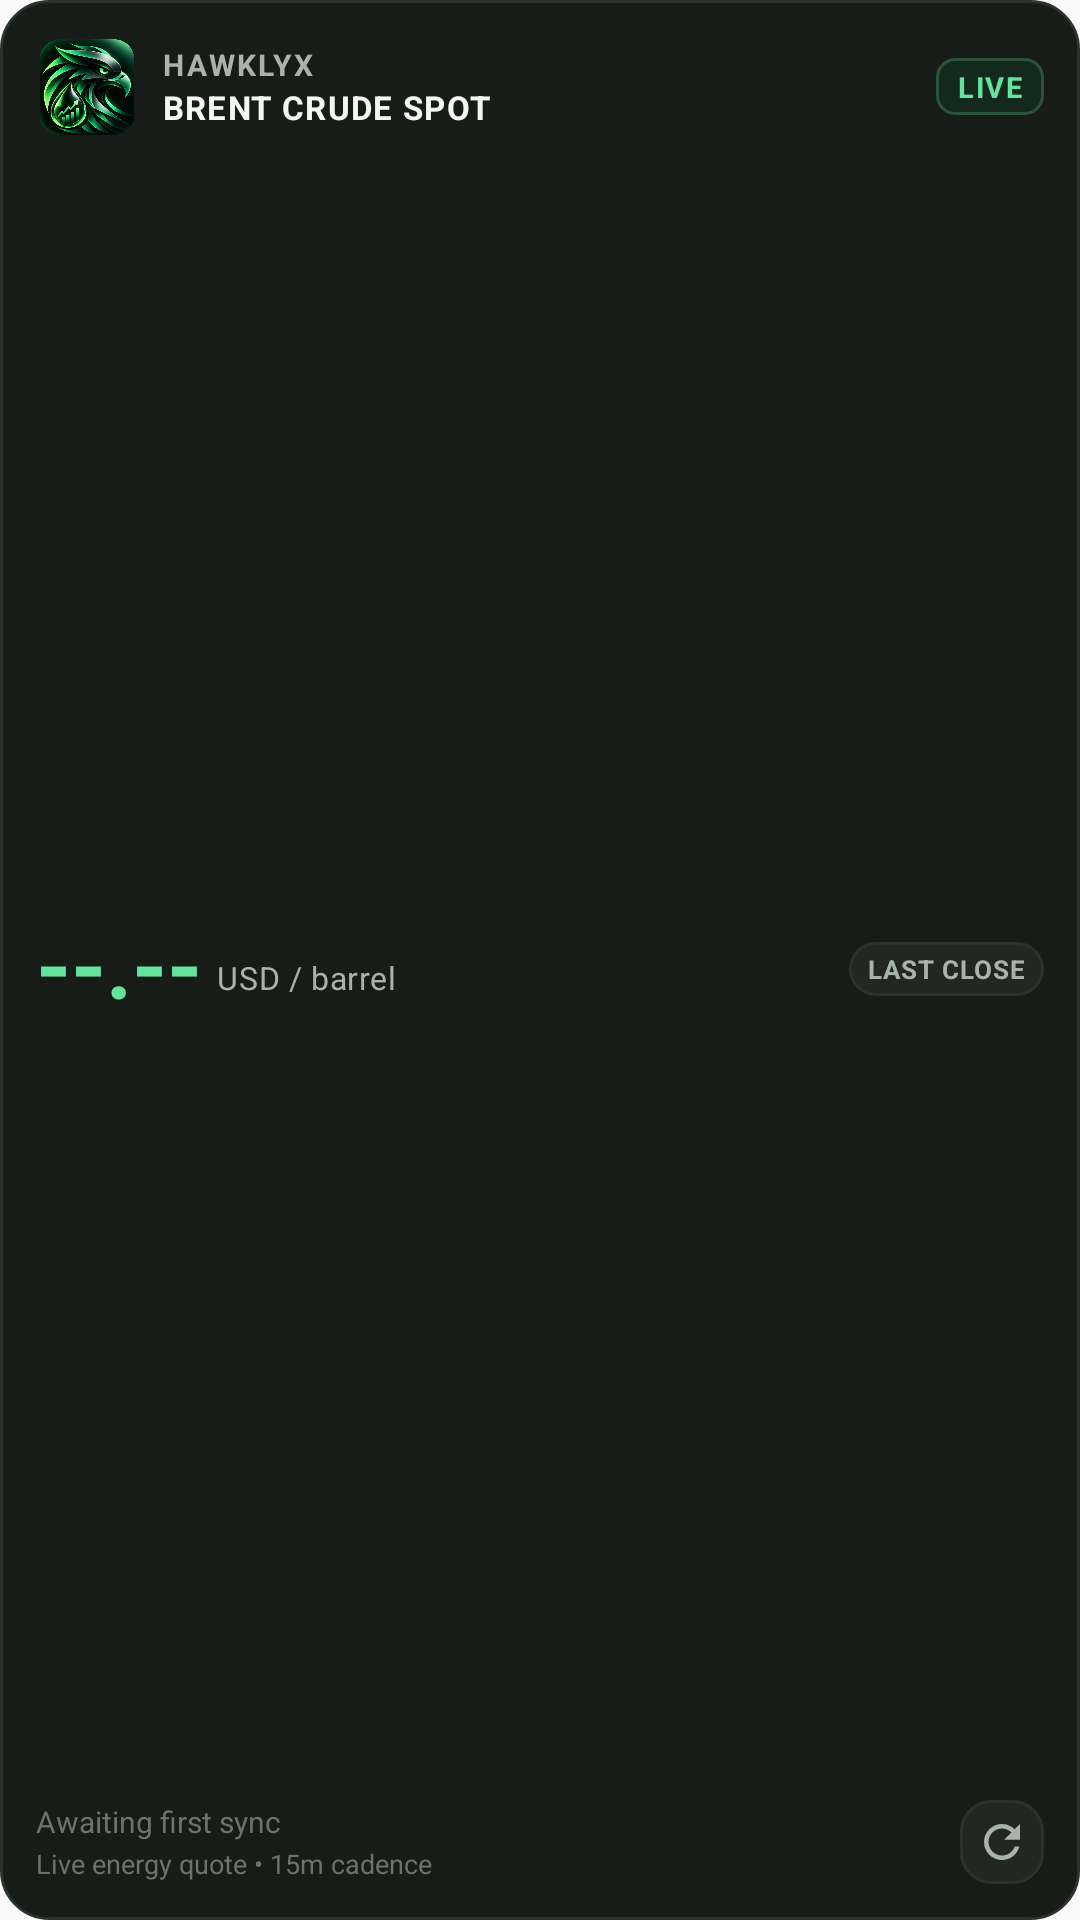

Where icons sit on this 1080px x 1920px app screen, as (x1, y1, x2, y2):
Tap to refresh: (960, 1800, 1044, 1884)
